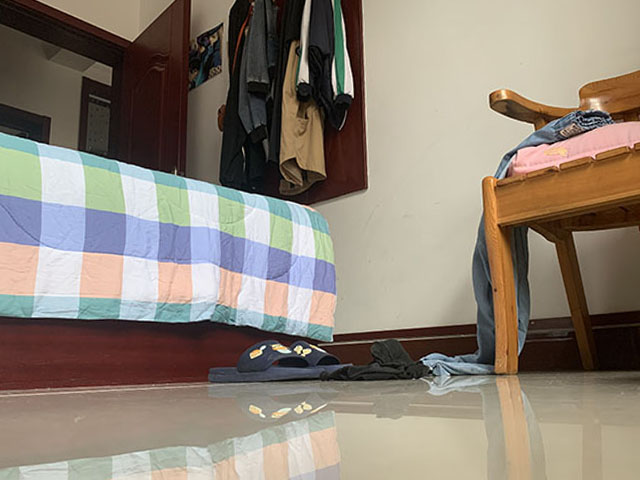bed: (1, 131, 338, 391)
slippers: (204, 336, 357, 384)
socks: (341, 338, 423, 383)
stool: (478, 70, 640, 382)
